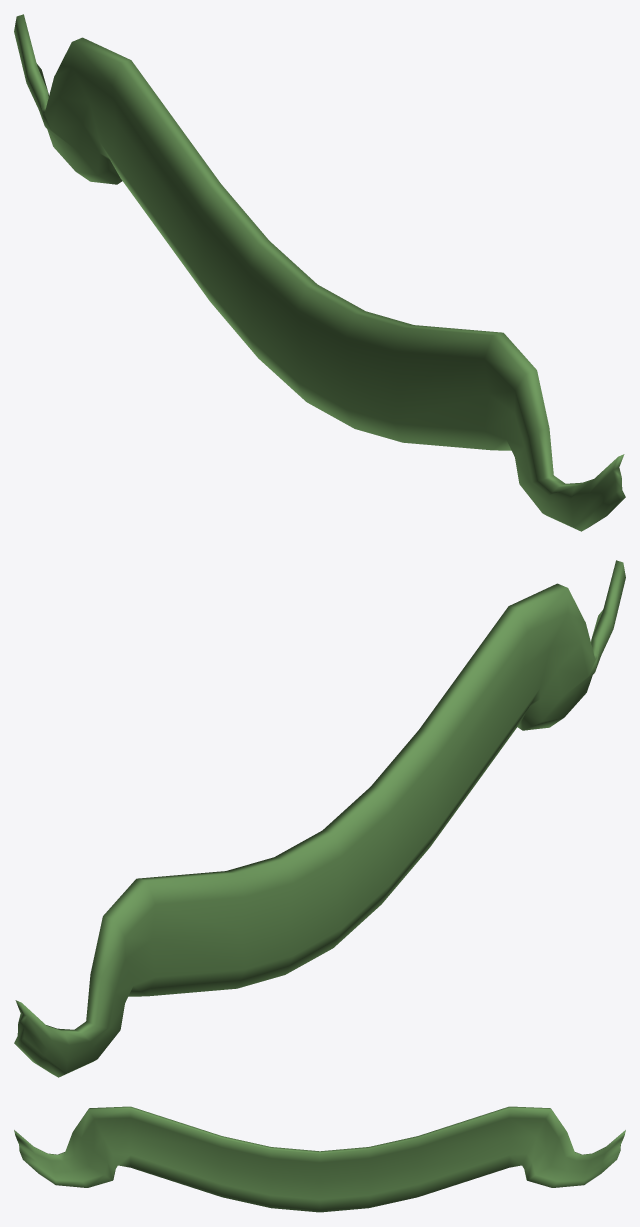
Rendered from decorparty.fbx.
The picture shows the model from 3 angles, top to bottom: view 1: azimuth 30°, elevation 25°; view 2: azimuth 150°, elevation 25°; view 3: azimuth 270°, elevation 25°; orthographic projection. The views are drawn at different scales.
Parts seen in each view (by area): view 1: Cube; view 2: Cube; view 3: Cube.
Boxes of the visible parts, x1=… form: Cube: x1=14, y1=14, x2=625, y2=531; Cube: x1=14, y1=560, x2=625, y2=1077; Cube: x1=14, y1=1106, x2=625, y2=1212.
Bounding box in the file's own units: 24.98 × 116 × 624.
